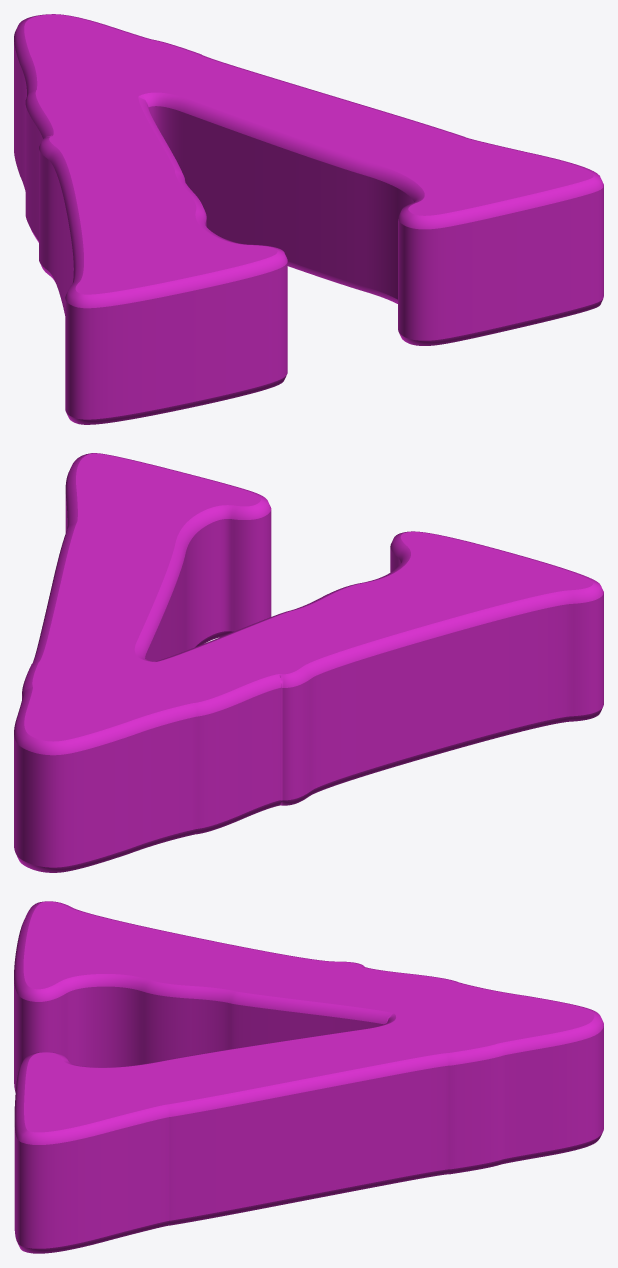
The model's file is Bubble_LetterV.fbx.
3 views of the same model, one above another, from view 1: azimuth 30°, elevation 25°; view 2: azimuth 150°, elevation 25°; view 3: azimuth 270°, elevation 25° (orthographic). The views are drawn at different scales.
Parts seen in each view (by area): view 1: BubbleLetter_V; view 2: BubbleLetter_V; view 3: BubbleLetter_V.
Part boxes in pixels (x1,y1,x2,y2): BubbleLetter_V: (14, 14, 603, 424); BubbleLetter_V: (14, 453, 603, 872); BubbleLetter_V: (14, 901, 603, 1253).
Bounding box in the file's own units: 0.5931 × 0.14 × 0.6189.
